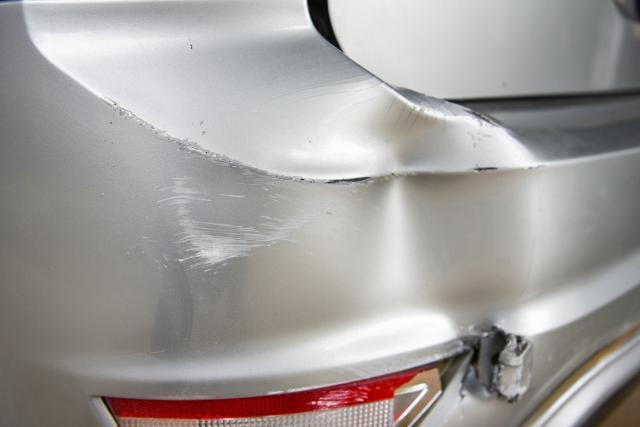crack: (460, 326, 535, 406)
dent: (244, 108, 535, 366)
scratch: (101, 95, 308, 279)
